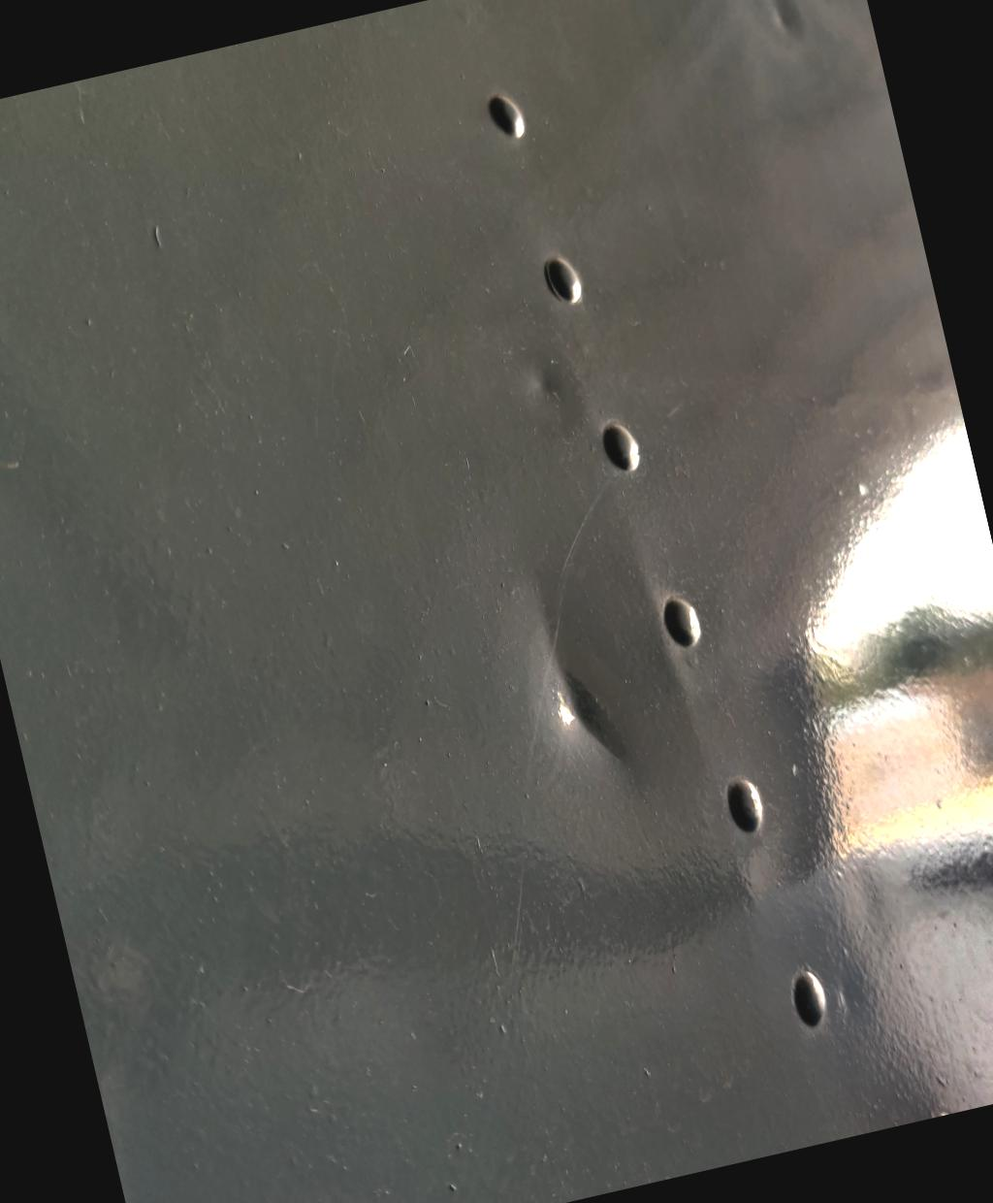dent: (464, 529, 693, 848)
